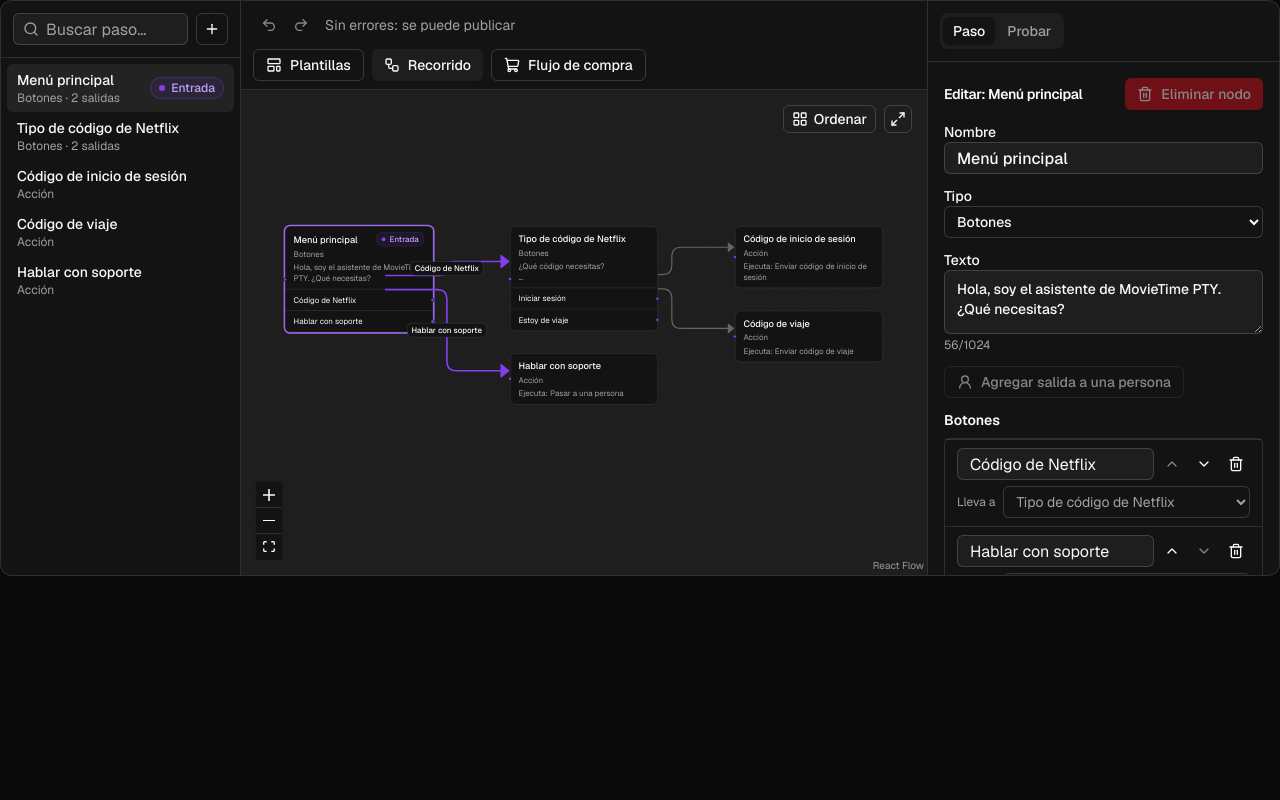
it: acción «datos de acceso del cliente» › se agrega desde el menú de pasos como una acción ya elegida y explica de dónde sale el texto
Click the button named "Agregar paso" at (212, 29), box [196, 13, 228, 45]
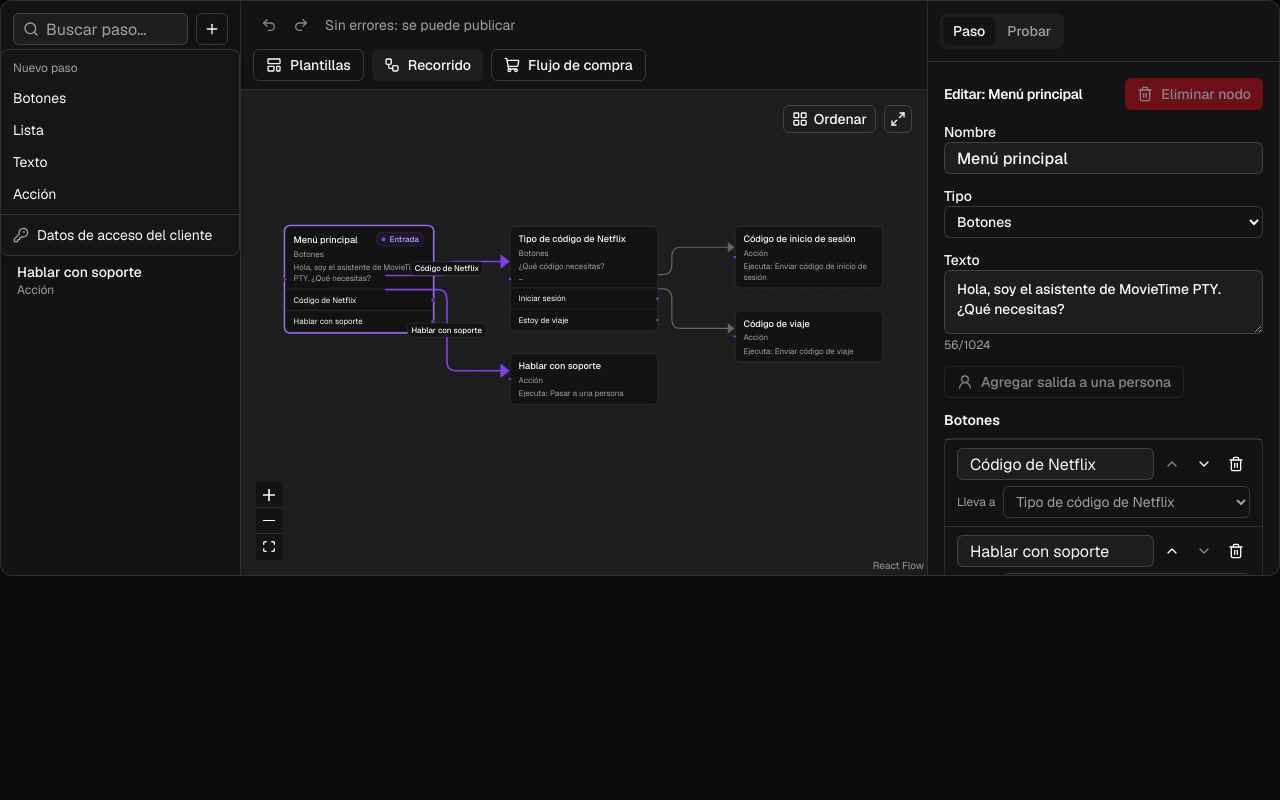
Click the menu item "Datos de acceso del cliente" at (113, 235), box [13, 226, 212, 244]
(page scrolled)
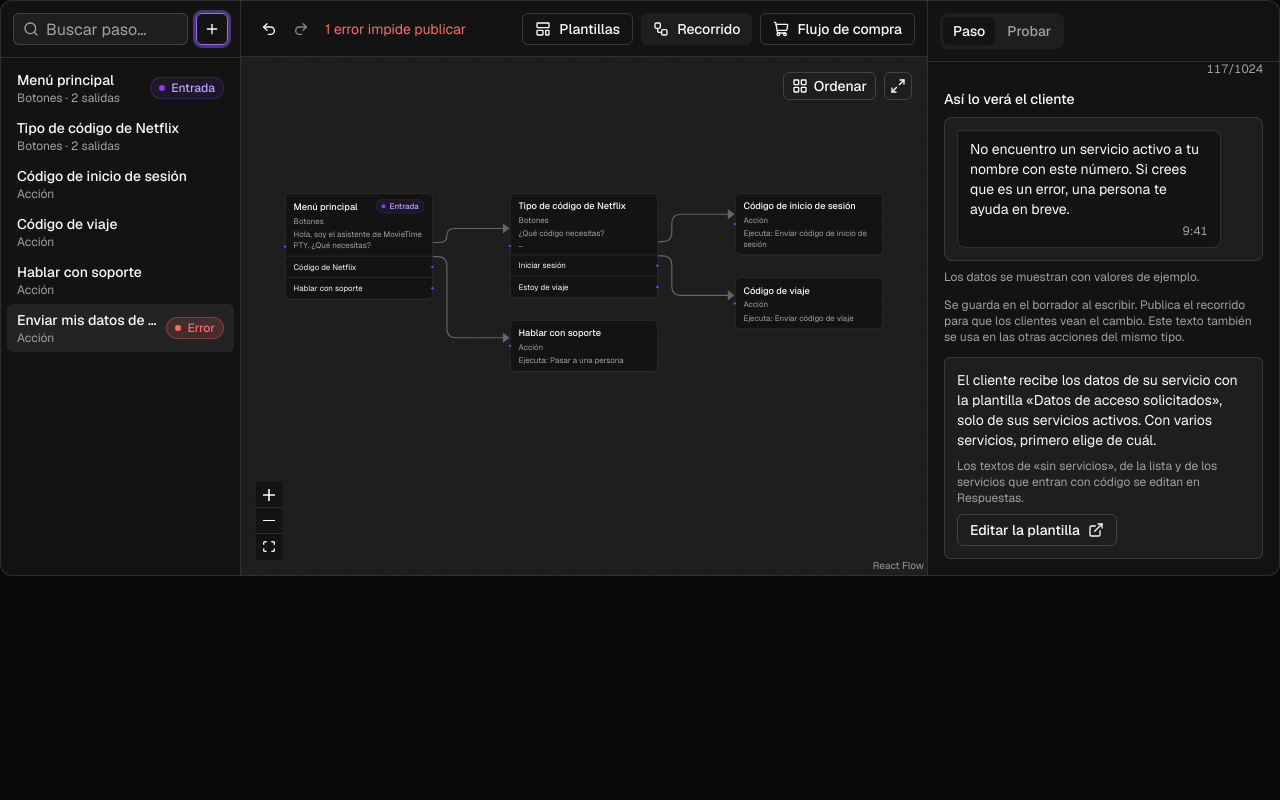
Check: the button "Enviar mis datos de acceso Acción Error" is shown, box [7, 304, 234, 352]
Check: the text "Datos de acceso solicitados" is shown, box [957, 371, 1238, 449]
